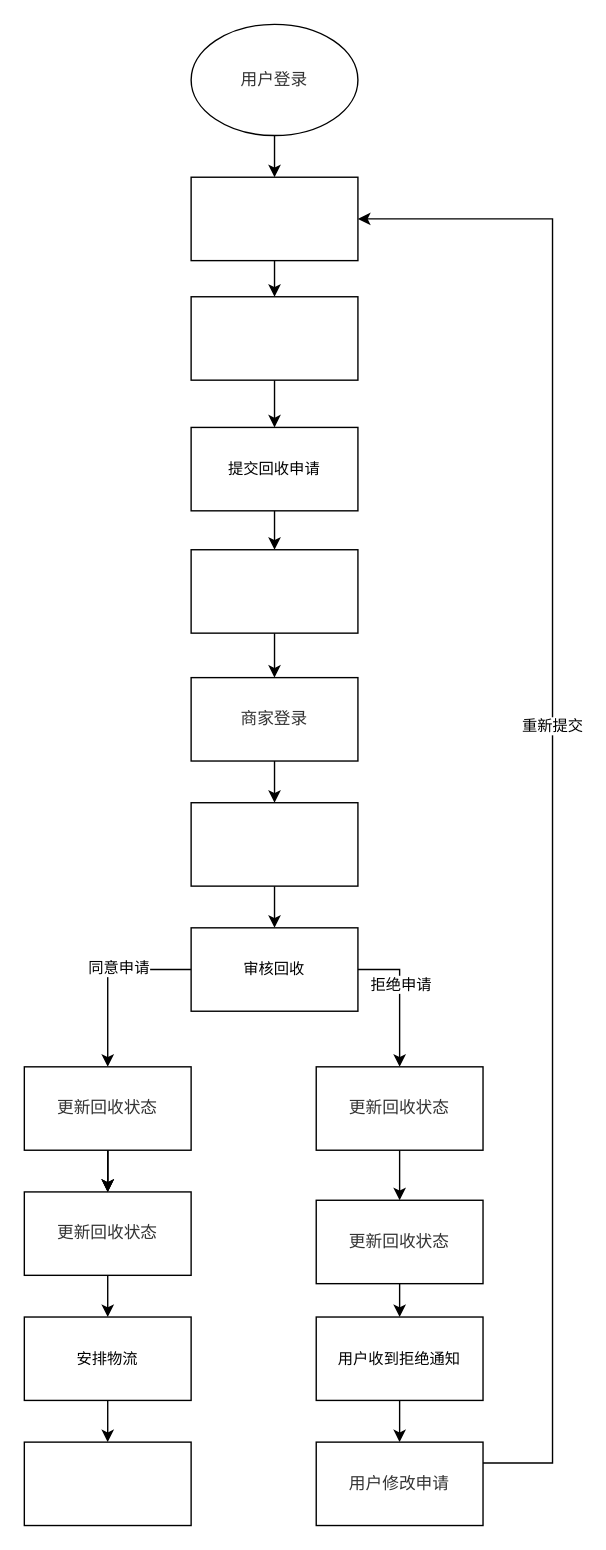
Image size: 606x1550. Some labels were removed from this diagram. Each missing label, with the centre of its shape:
"填写回收信息" belongs at point (274, 337).
"完成回收" belongs at point (107, 1483).
"提示申请成功" belongs at point (274, 590).
"进入回收管理" belongs at point (274, 843).
"进入回收页面" belongs at point (274, 218).
